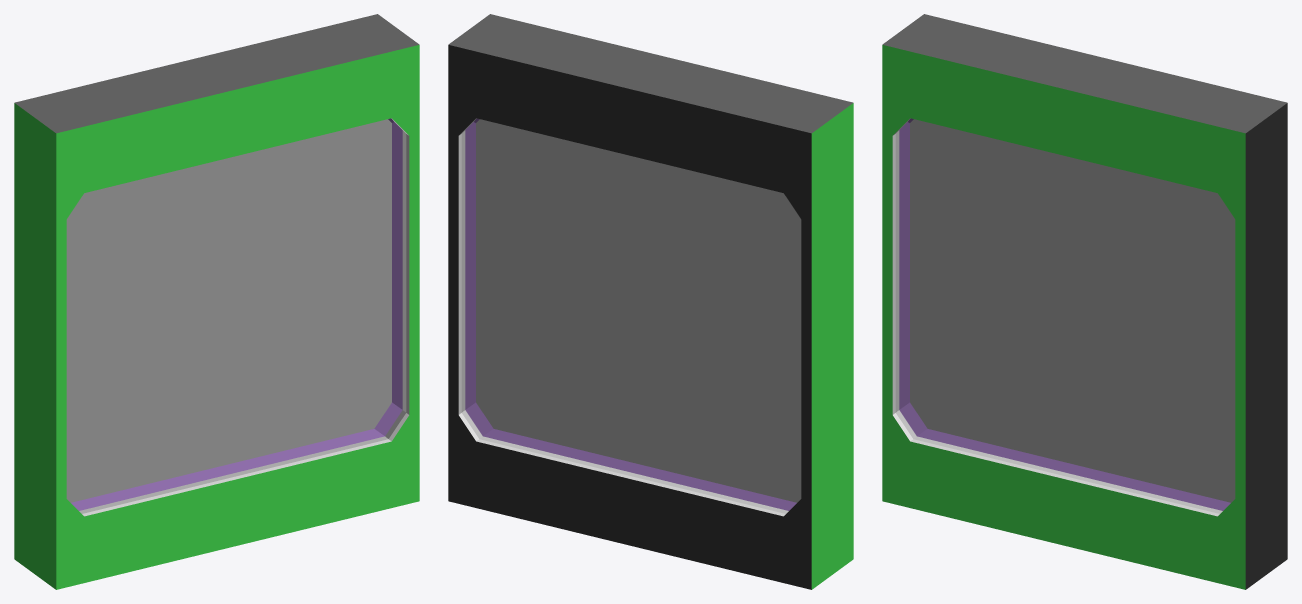
Rendered from Wall_Simple_2.5x3Window00.fbx.
3 views of the same model, side by side, from view 1: azimuth 30°, elevation 25°; view 2: azimuth 150°, elevation 25°; view 3: azimuth 330°, elevation 25° (orthographic).
Parts seen in each view (by area): view 1: Wall_Simple_2.5x3Window00; view 2: Wall_Simple_2.5x3Window00; view 3: Wall_Simple_2.5x3Window00.
Part boxes in pixels (x1,y1,x2,y2): Wall_Simple_2.5x3Window00: [14, 14, 419, 589]; Wall_Simple_2.5x3Window00: [448, 14, 853, 589]; Wall_Simple_2.5x3Window00: [882, 14, 1287, 589].
Size of the model in its own units: 250 by 300 by 50.
